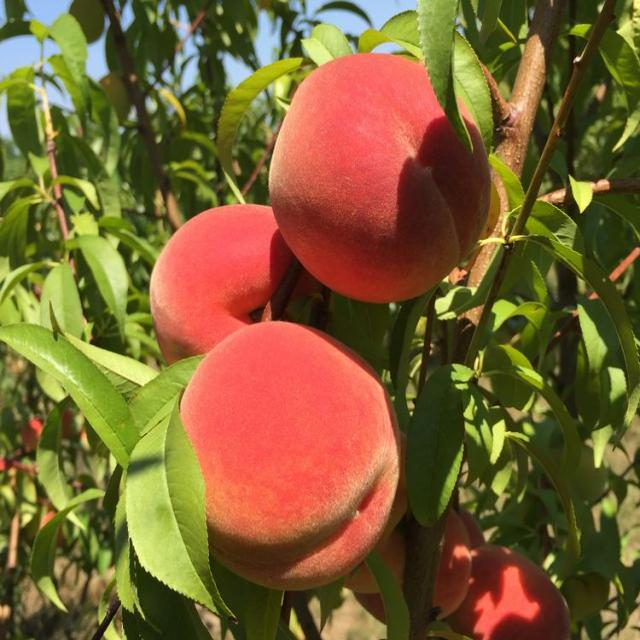peach: (31, 0, 640, 640)
